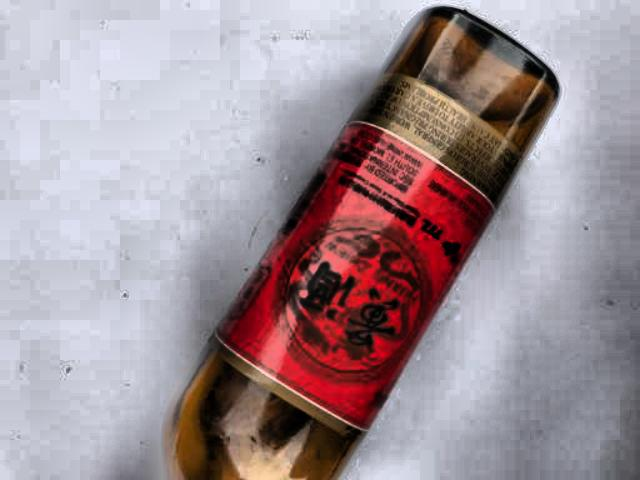Bottles: (152, 7, 578, 480)
